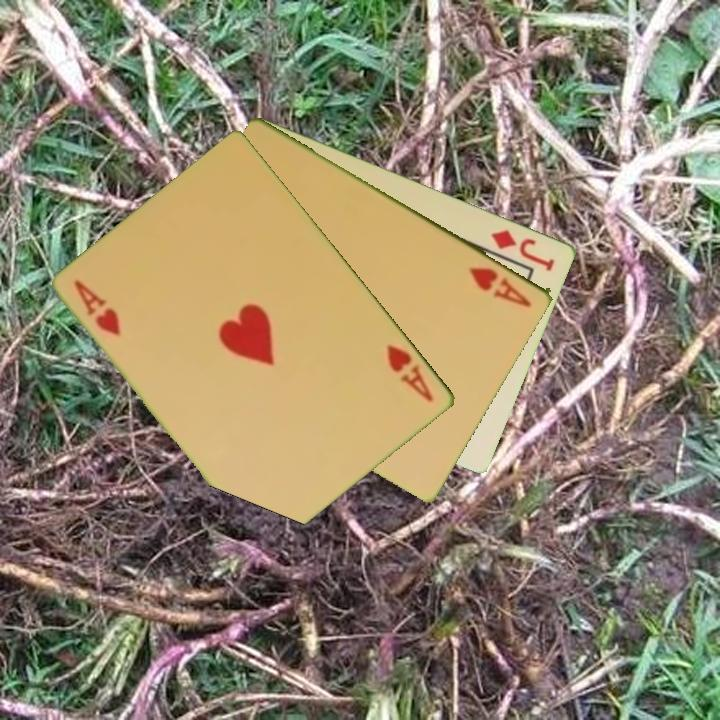Ah: (383, 340, 437, 405), (70, 276, 125, 339), (465, 263, 535, 310)
Jd: (488, 225, 558, 274)
